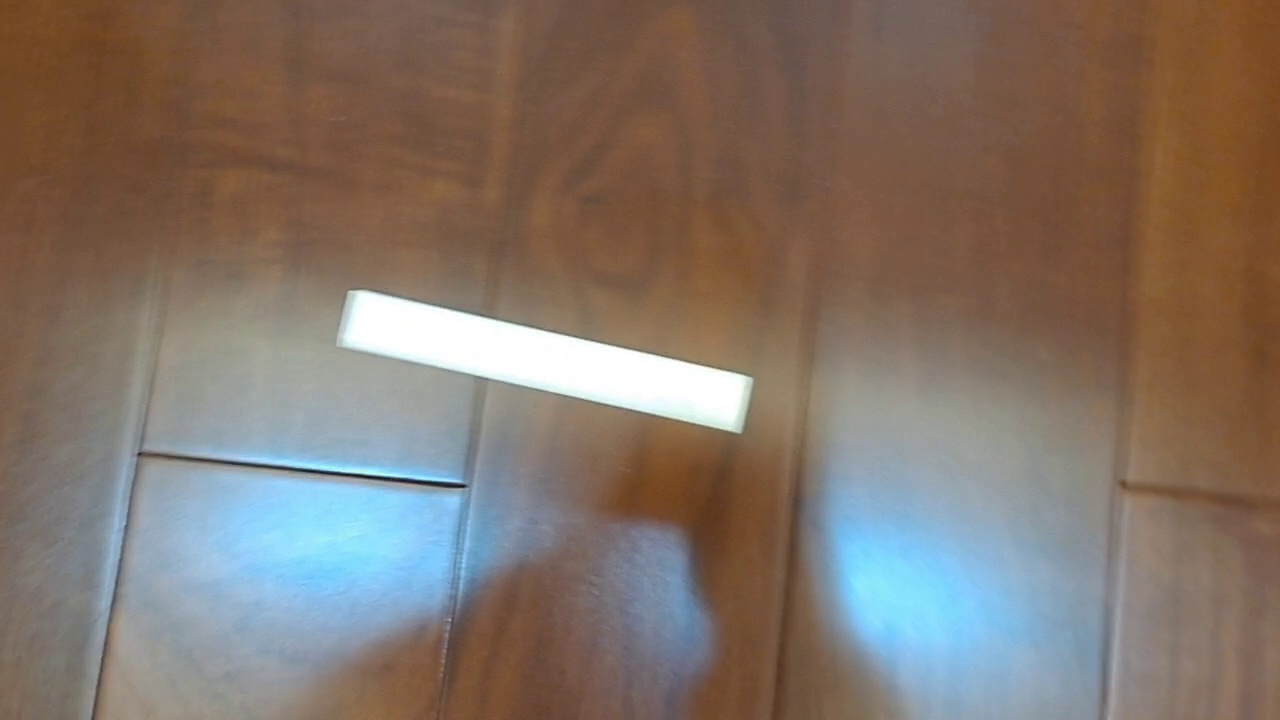ruler: (334, 286, 755, 436)
